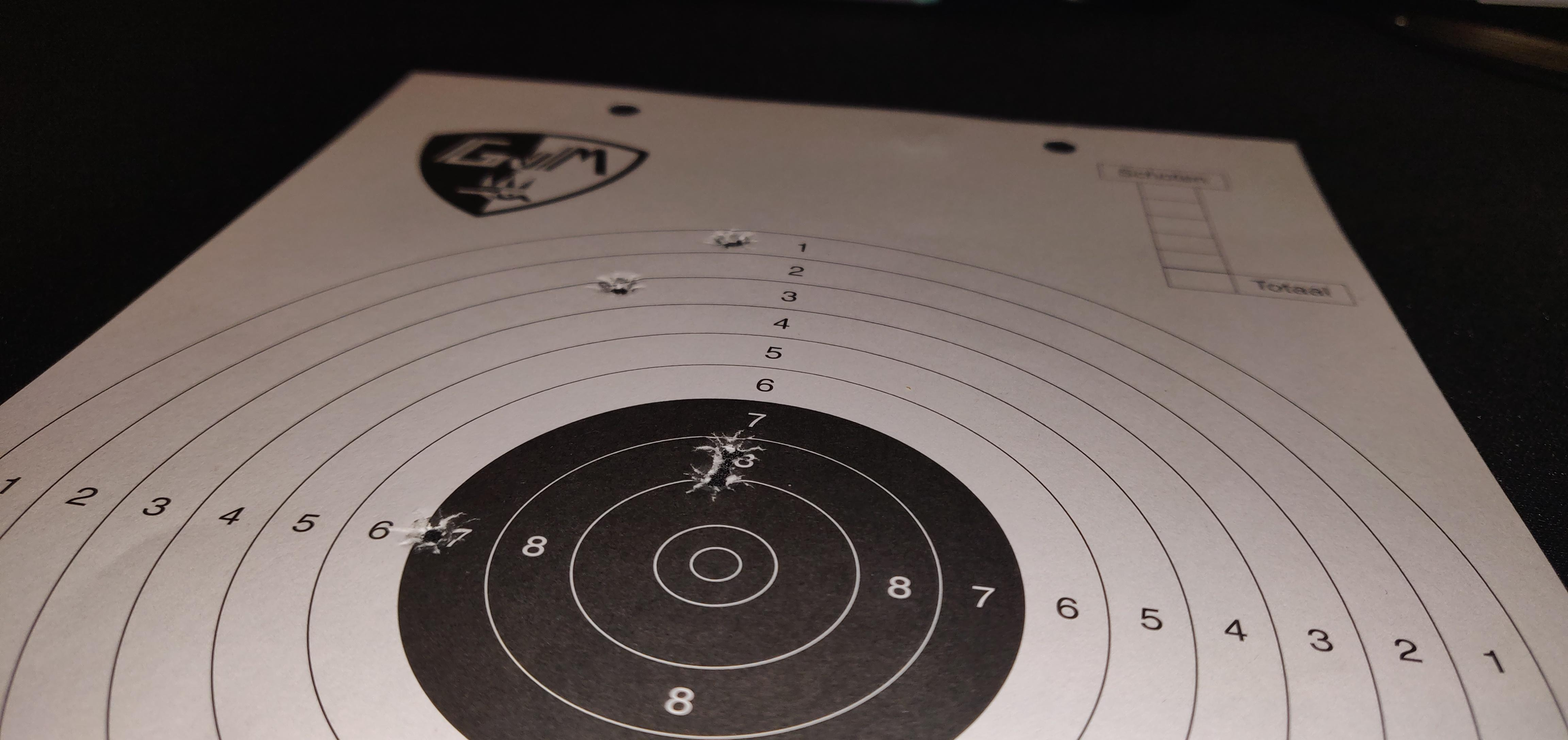hole: (395, 506, 459, 559), (686, 464, 750, 500), (702, 429, 755, 464), (595, 268, 647, 298), (707, 227, 754, 251)
